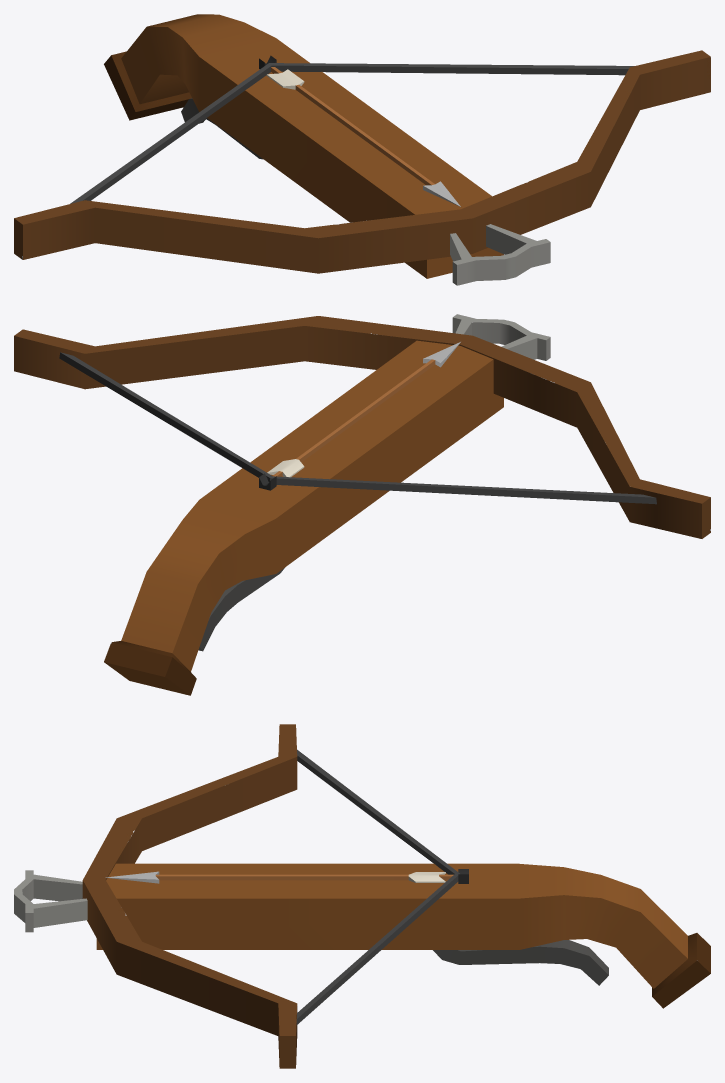
The model's file is CrossbowandArrow.fbx.
The picture shows the model from 3 angles, top to bottom: view 1: azimuth 30°, elevation 25°; view 2: azimuth 150°, elevation 25°; view 3: azimuth 270°, elevation 25°; orthographic projection. The views are drawn at different scales.
Parts seen in each view (by area): view 1: polySurface3, Kenya; view 2: polySurface3, Kenya; view 3: polySurface3, Kenya.
Part boxes in pixels (bbox=[...]): polySurface3: bbox=[14, 14, 710, 285]; Kenya: bbox=[266, 67, 460, 206]; polySurface3: bbox=[14, 314, 710, 695]; Kenya: bbox=[267, 342, 460, 477]; polySurface3: bbox=[14, 724, 710, 1068]; Kenya: bbox=[105, 871, 453, 883].
Bounding box in the file's own units: 5 × 0.9226 × 4.73.
Materials: 1 (1 with a texture image).
